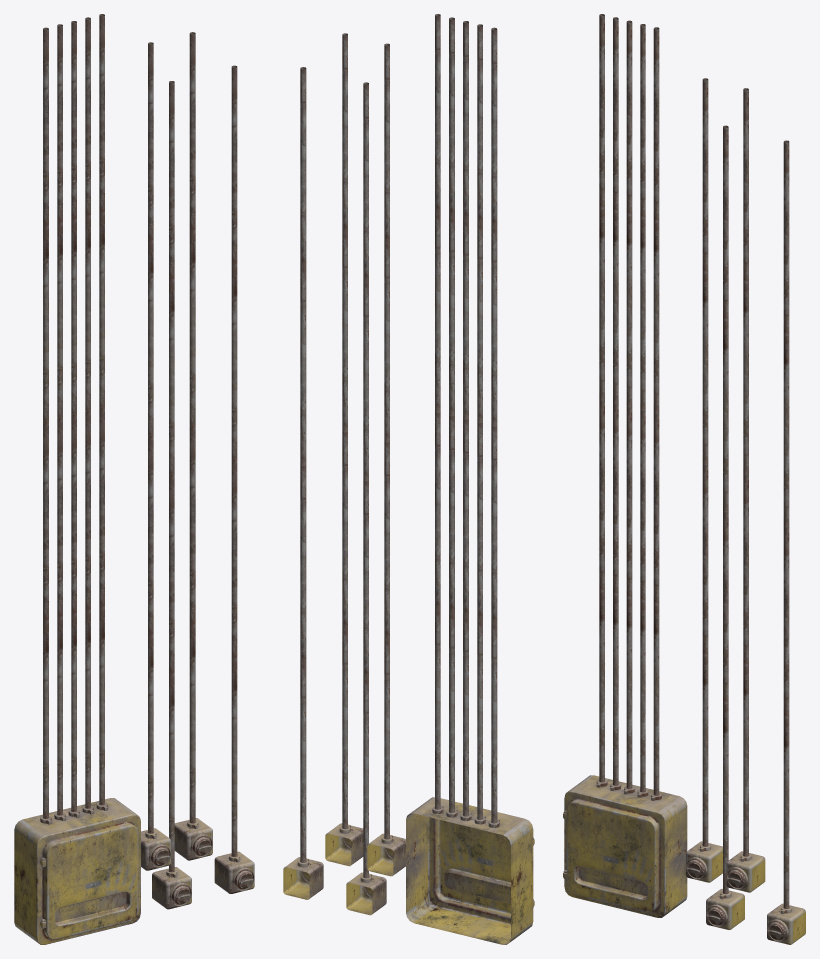
Rendered from SM_ElectriBox01.glb.
3 views of the same model, side by side, from view 1: azimuth 30°, elevation 25°; view 2: azimuth 150°, elevation 25°; view 3: azimuth 330°, elevation 25° (orthographic). The views are drawn at different scales.
Visible parts, largest first — view 1: SM_ElectriBox01; view 2: SM_ElectriBox01; view 3: SM_ElectriBox01.
Part boxes in pixels (x1,y1,x2,y2): SM_ElectriBox01: [14, 14, 254, 944]; SM_ElectriBox01: [283, 14, 534, 944]; SM_ElectriBox01: [563, 14, 805, 944].
Size of the model in its own units: 1.08 by 4.14 by 0.2212.
Materials: 1 (1 with a texture image).
